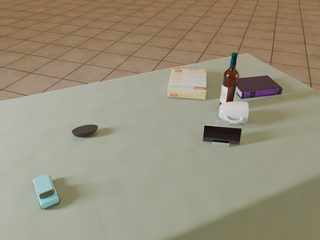book: (236, 76, 282, 98)
bottle: (220, 53, 239, 105)
box: (168, 67, 206, 99)
cup: (219, 101, 248, 124)
mouse: (72, 125, 98, 137)
phone: (202, 125, 242, 144)
toy_car: (33, 174, 60, 209)
